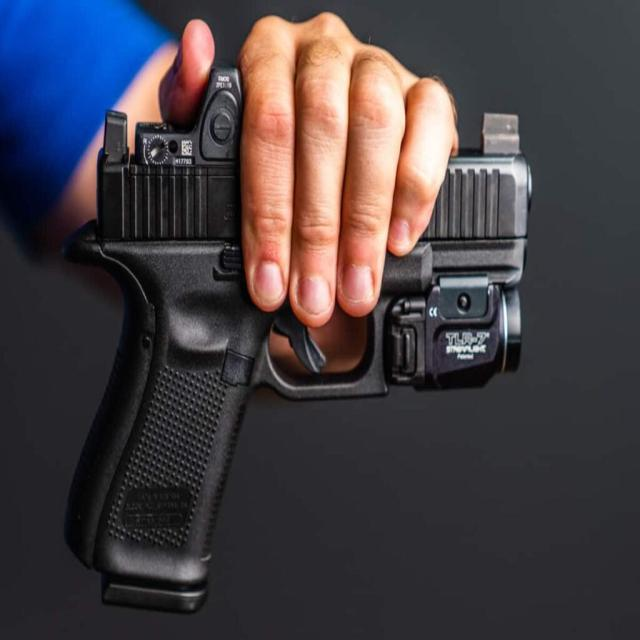HandGun: (62, 70, 532, 617)
